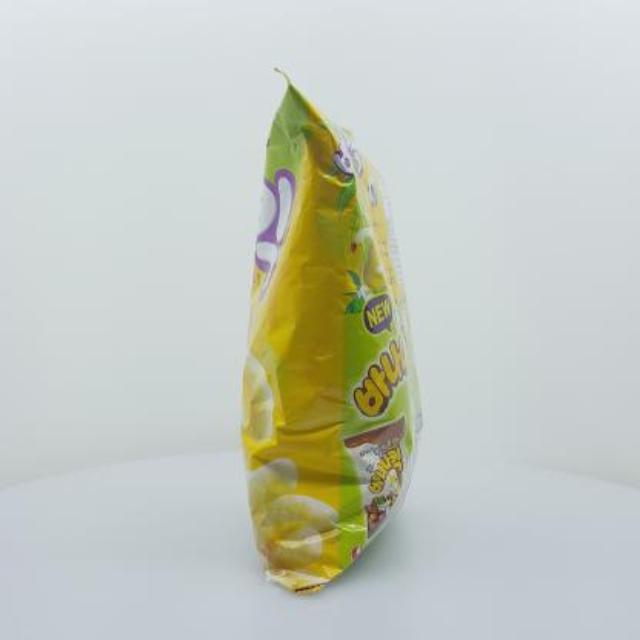snack_bag: (219, 49, 443, 615)
